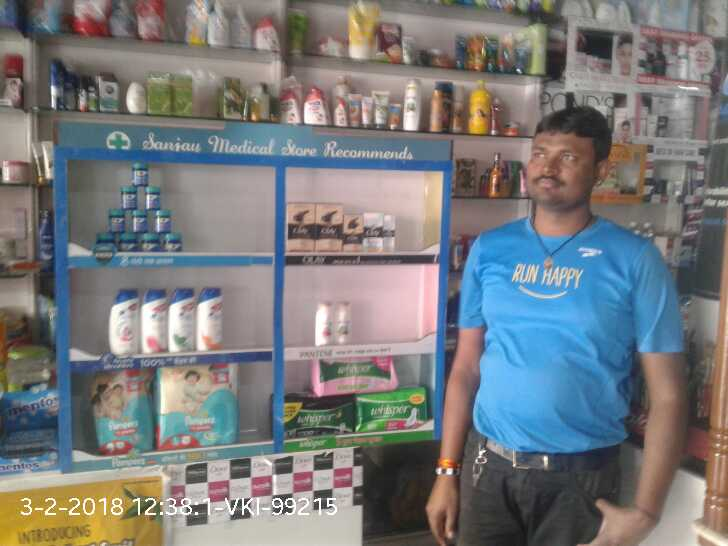vicks: (96, 160, 184, 255)
